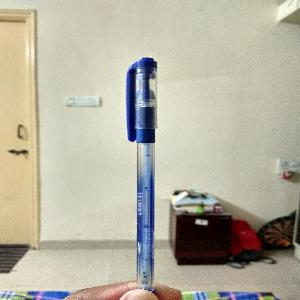pen: (123, 56, 166, 294)
